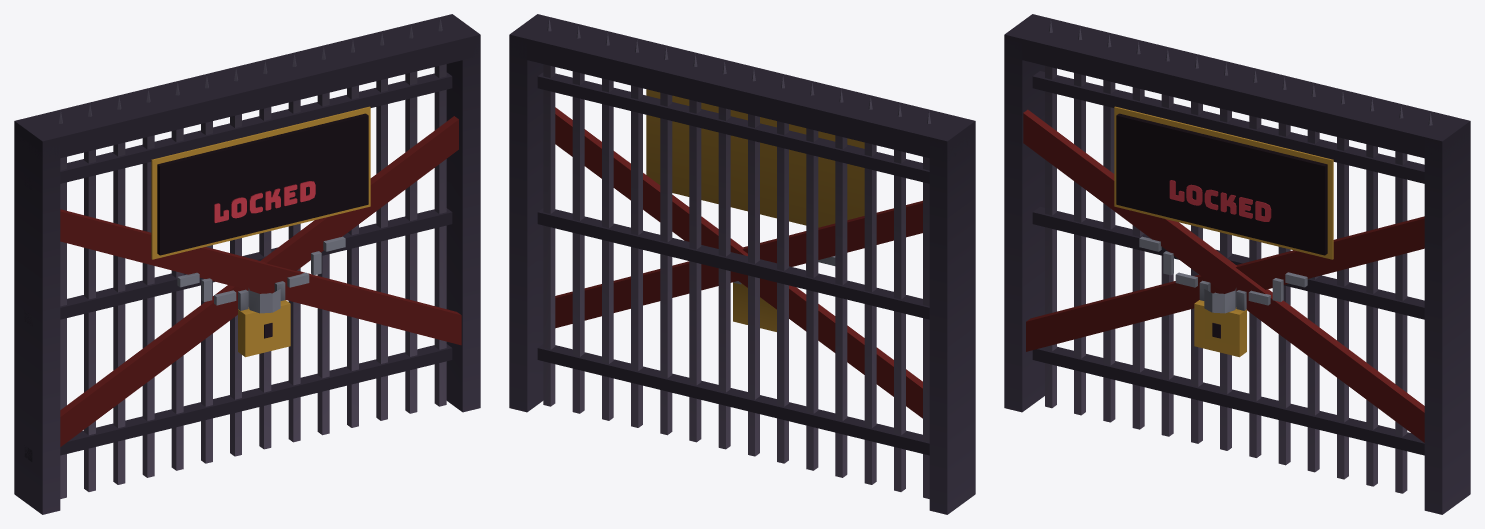
Rendered from cc_gate_small.glb.
The picture shows the model from 3 angles, left to right: view 1: azimuth 30°, elevation 25°; view 2: azimuth 150°, elevation 25°; view 3: azimuth 330°, elevation 25°; orthographic projection.
Visible parts, largest first — view 1: cc_gate_small; view 2: cc_gate_small; view 3: cc_gate_small.
Part boxes in pixels (<box>): cc_gate_small: <box>14,14,480,514</box>; cc_gate_small: <box>509,14,975,514</box>; cc_gate_small: <box>1004,14,1470,514</box>.
Bounding box in the file's own units: 5.4 × 4.55 × 0.84.
